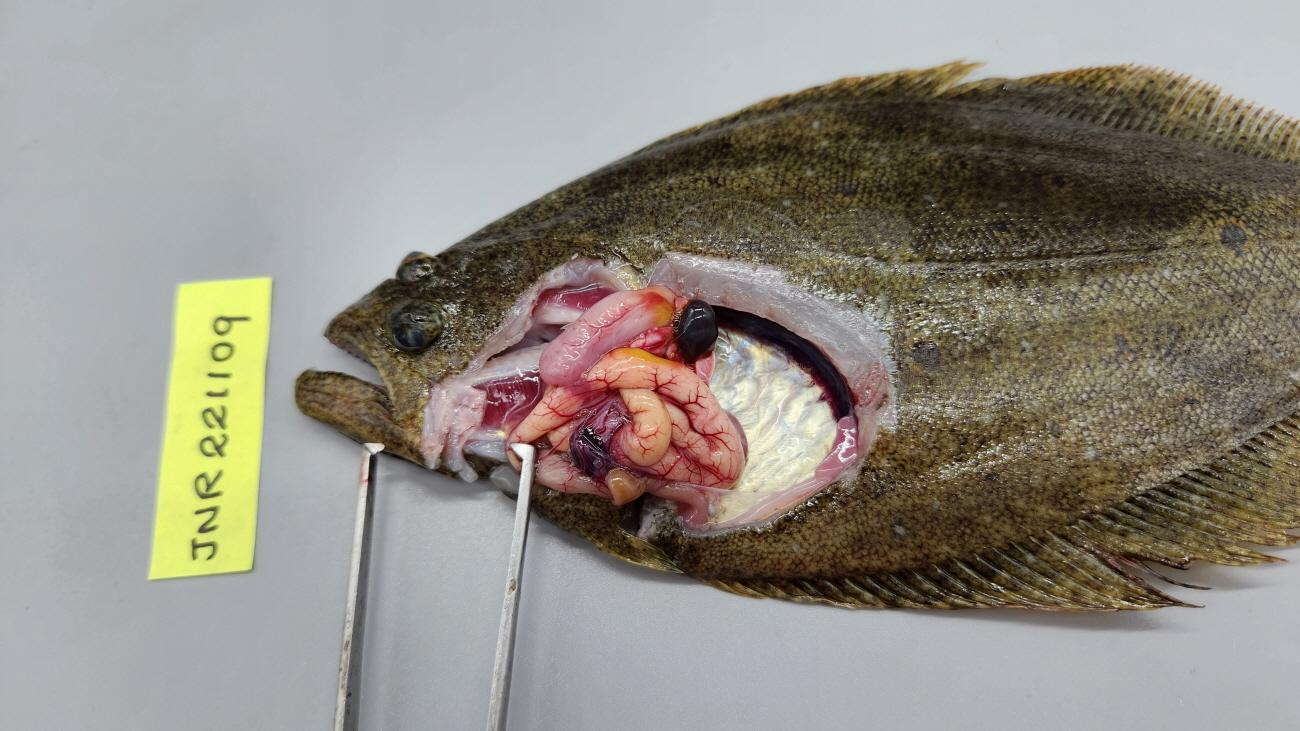POINN: (583, 346, 745, 489)
POSPN: (568, 426, 610, 478)
